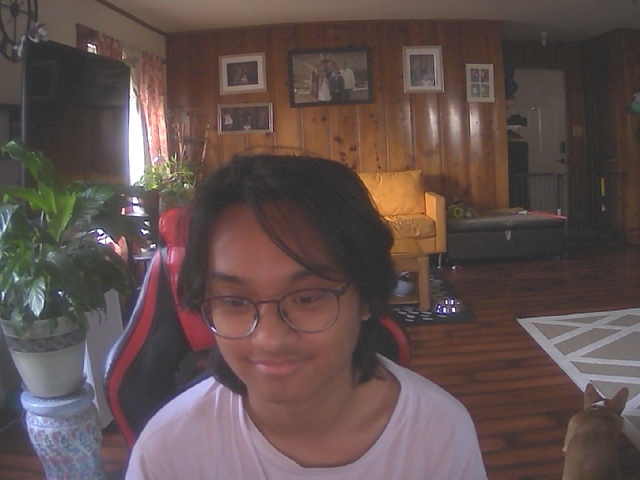happy: (196, 154, 381, 410)
